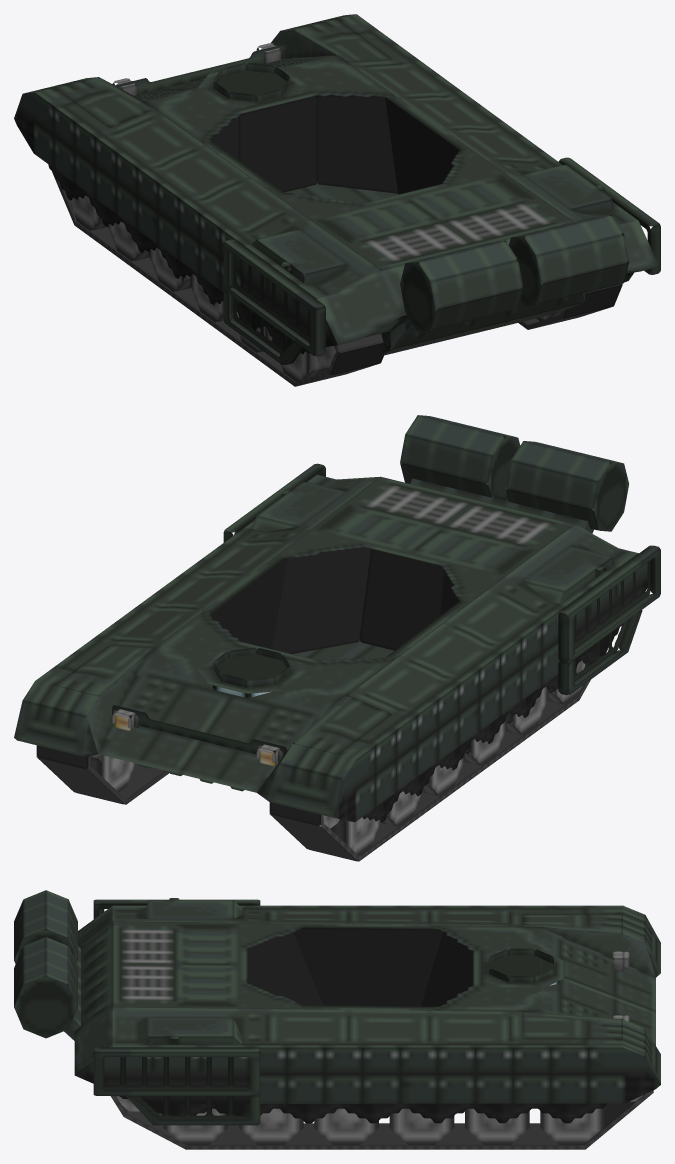
The model's file is mrbudger_tank.obj.
The picture shows the model from 3 angles, top to bottom: view 1: azimuth 30°, elevation 25°; view 2: azimuth 150°, elevation 25°; view 3: azimuth 270°, elevation 25°; orthographic projection. The views are drawn at different scales.
Parts seen in each view (by area): view 1: hull, cylinder, cube, TracksL, wheel, LeftExhaust, RightExhaust, TracksR; view 2: hull, cylinder, cube, wheel, TracksL, TracksR, LeftExhaust, RightExhaust; view 3: hull, cylinder, cube, wheel, TracksR, RightExhaust, LeftExhaust, cylinder_selection.
Part boxes in pixels (<box>): hull: <box>14,14,659,355</box>; cylinder: <box>210,63,459,270</box>; cube: <box>48,43,660,365</box>; TracksL: <box>51,170,384,386</box>; wheel: <box>65,192,564,381</box>; LeftExhaust: <box>252,229,346,283</box>; RightExhaust: <box>523,164,613,211</box>; TracksR: <box>518,283,622,329</box>; hull: <box>14,415,647,822</box>; cylinder: <box>210,547,459,698</box>; cube: <box>112,463,660,822</box>; wheel: <box>90,660,589,855</box>; TracksL: <box>269,636,614,861</box>; TracksR: <box>36,745,168,804</box>; LeftExhaust: <box>523,546,613,603</box>; RightExhaust: <box>251,482,346,531</box>; hull: <box>14,890,660,1103</box>; cylinder: <box>247,928,559,1006</box>; cube: <box>93,898,629,1125</box>; wheel: <box>163,1106,604,1144</box>; TracksR: <box>110,1090,653,1149</box>; RightExhaust: <box>147,1017,242,1044</box>; LeftExhaust: <box>147,900,242,918</box>; cylinder_selection: <box>542,950,564,988</box>.
Size of the model in its own units: 4.4 by 2.07 by 7.89.
2 materials, 2 textured.
